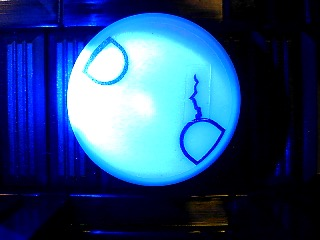CRACK: (66, 12, 241, 187)
